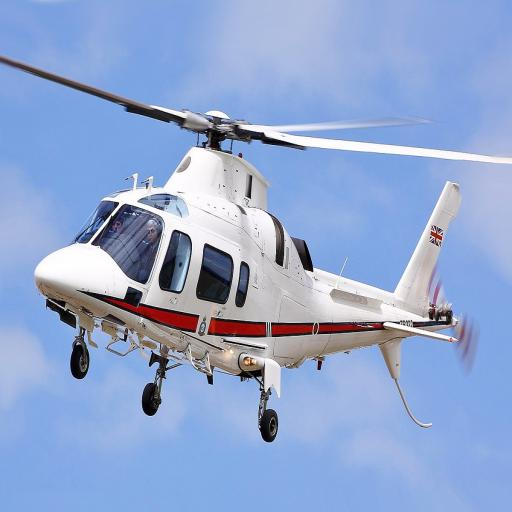helicopter: (1, 57, 450, 386)
